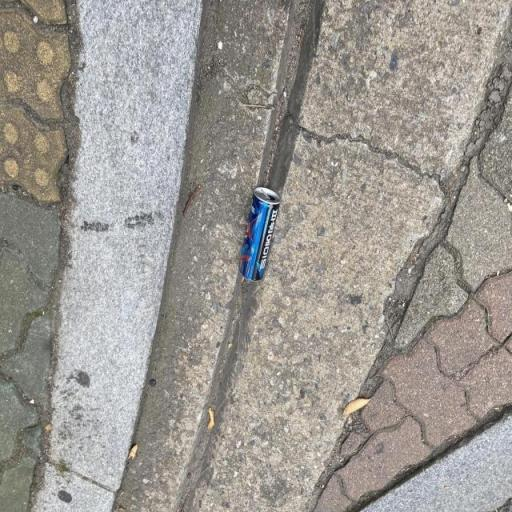metal: (235, 175, 291, 296)
